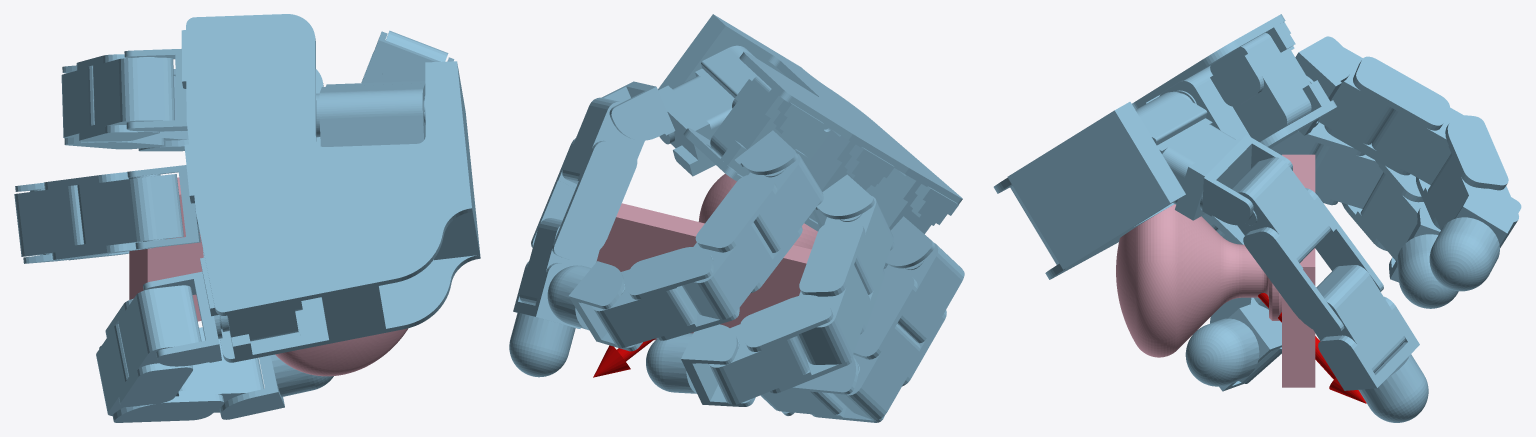
The picture shows the model from 3 angles, left to right: view 1: azimuth 30°, elevation 25°; view 2: azimuth 150°, elevation 25°; view 3: azimuth 270°, elevation 25°; orthographic projection. The views are drawn at different scales.
Parts seen in each view (by area): view 1: world, door_knob.stl; view 2: world, door_knob.stl; view 3: world, door_knob.stl.
Boxes of the visible parts, left/top/right/bottom form: world: left=14, top=14, right=480, bottom=422; door_knob.stl: left=129, top=177, right=408, bottom=376; world: left=509, top=14, right=964, bottom=422; door_knob.stl: left=596, top=173, right=817, bottom=340; world: left=993, top=14, right=1521, bottom=422; door_knob.stl: left=1116, top=154, right=1315, bottom=387.
Bounding box in the file's own units: 0.1539 × 0.1516 × 0.1986.
